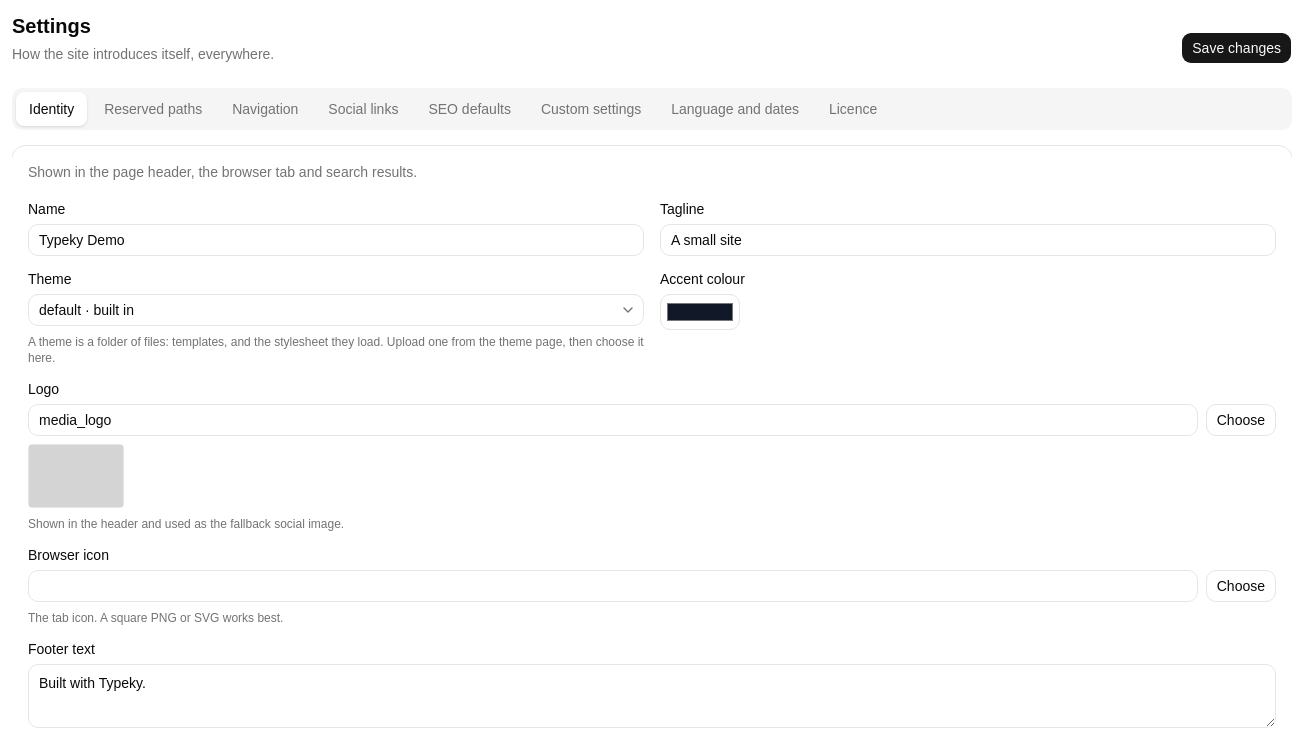
Test case: social links › removes one
Click the tab "Social links". click: coordinates (363, 109)
box: [315,92,411,126]
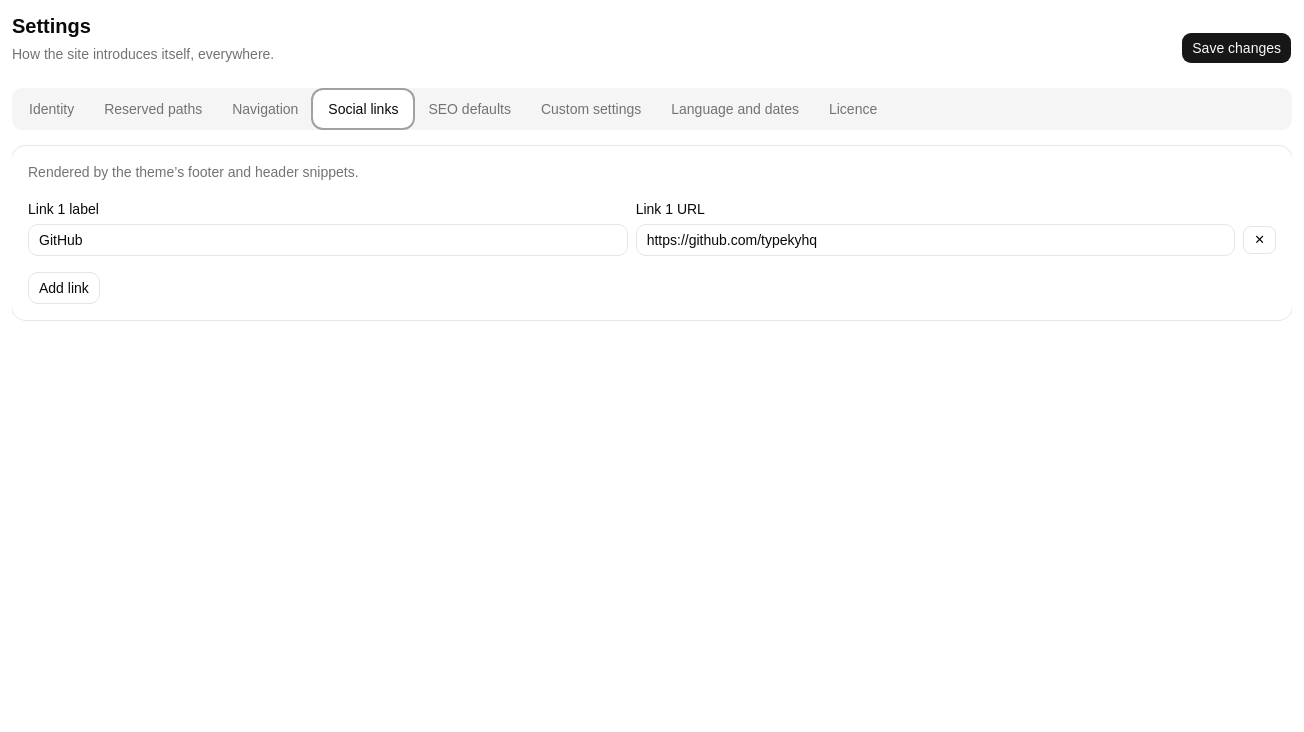
Click the button named "Remove GitHub". click: coordinates (1260, 240)
box: [1243,226,1276,254]
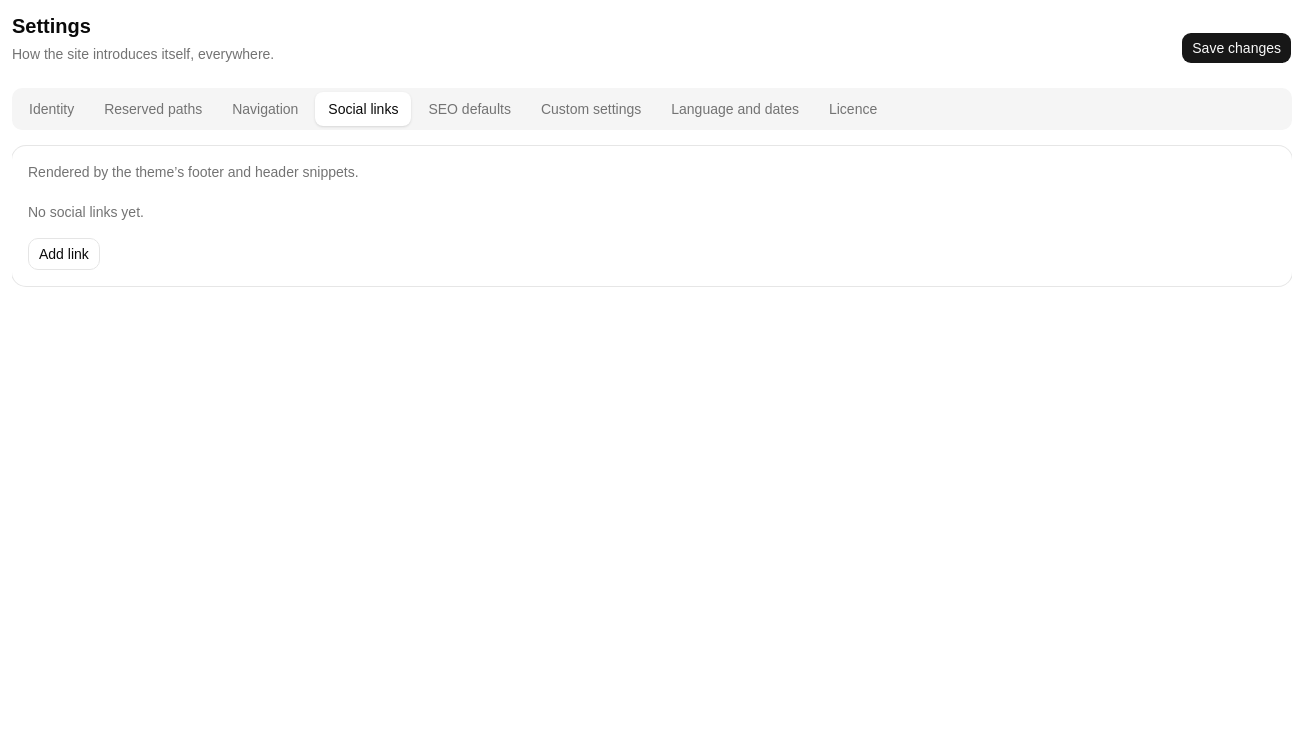
expect the label labelled "Link 1 label" is gone: met
